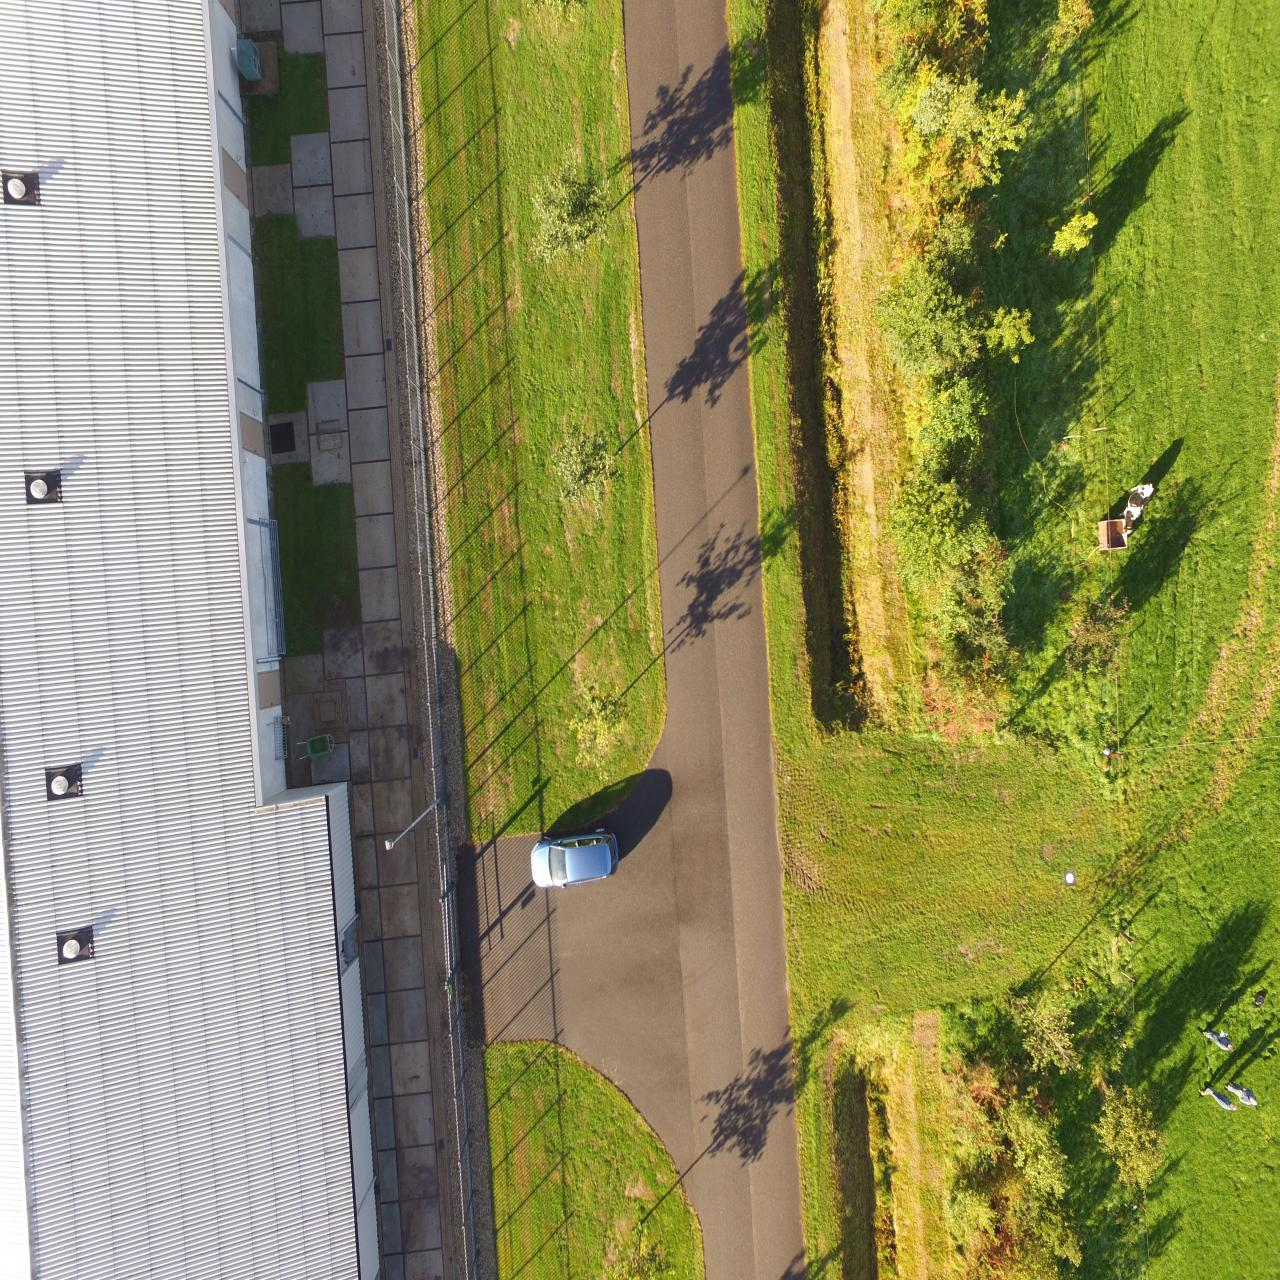cow: (1117, 478, 1156, 533)
